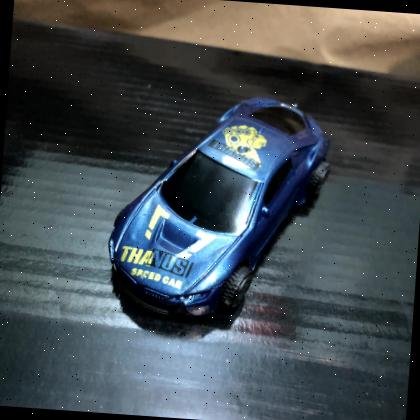Car: (107, 98, 330, 319)
